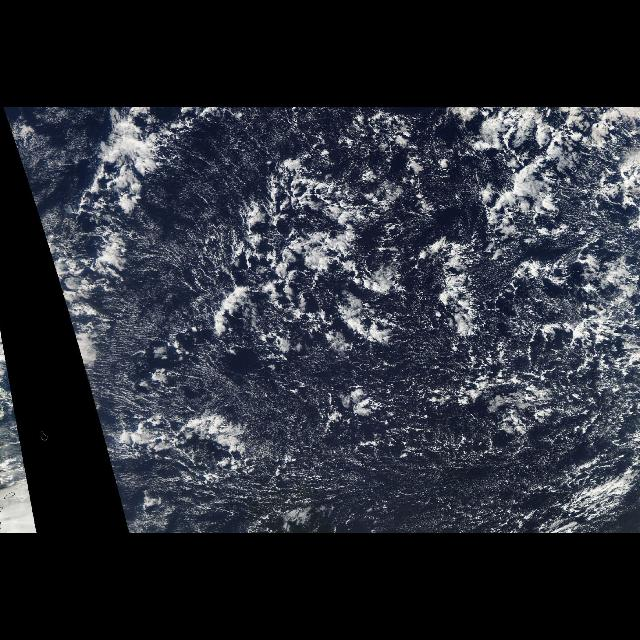Fish: (36, 110, 214, 424)
Gravel: (208, 107, 640, 533)
Sugar: (117, 158, 223, 416)
